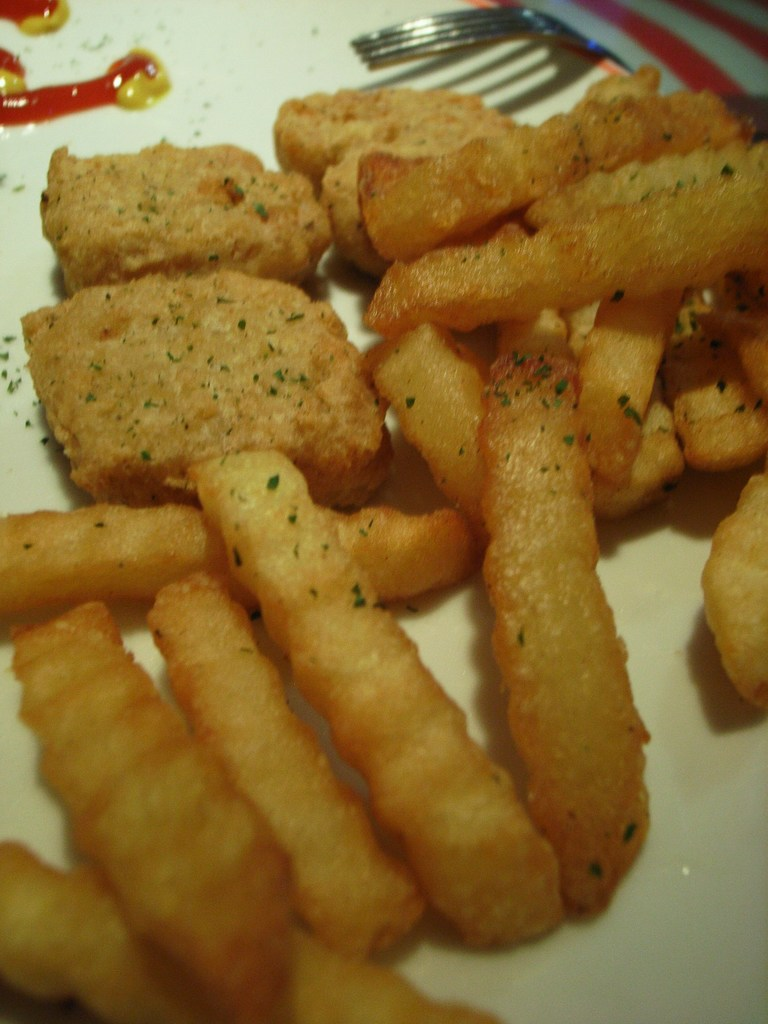French fries: (0, 81, 767, 1023)
